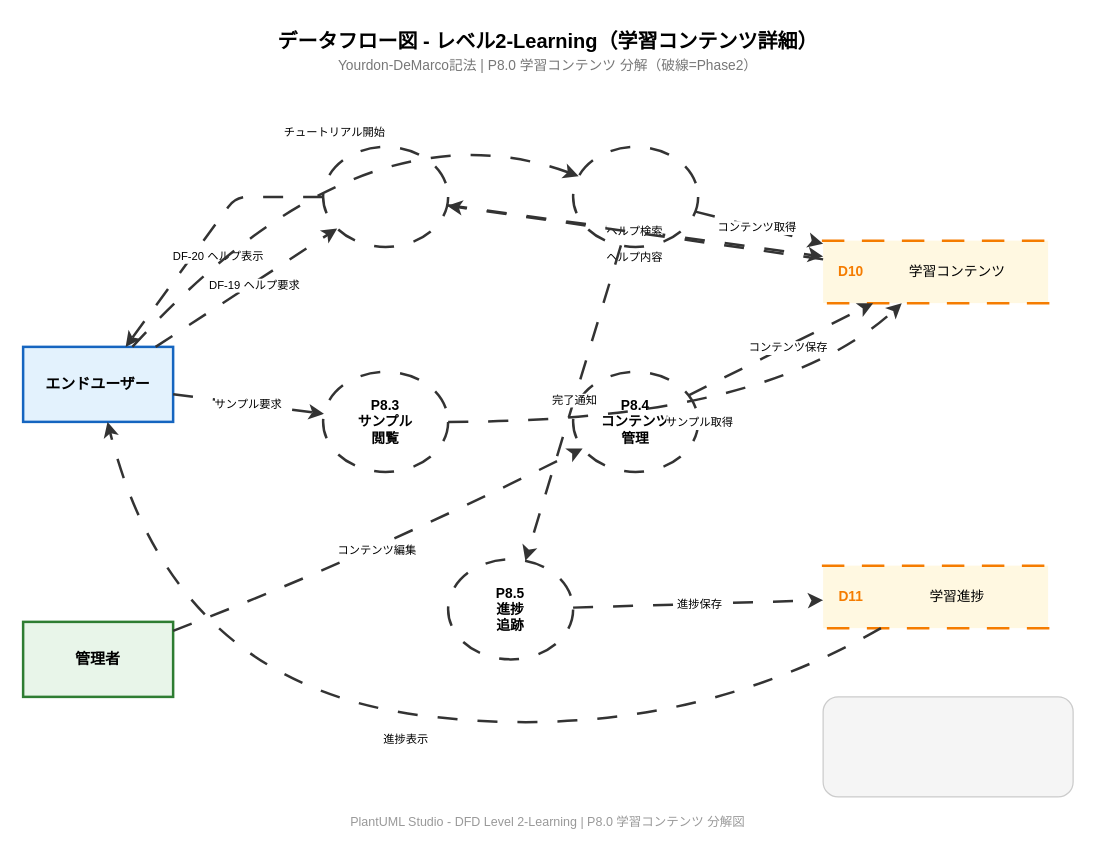
Image size: 1095x855. Some labels were removed from this diagram. Each missing label, with the centre of its shape:
"P8.1 ヘルプ 表示" goes at pixel 385 196.
"P8.2 チュートリアル 提供" goes at pixel 635 196.
"Phase 2 学習機能 UC 3-10 ヘルプ表示 UC 3-11 チュートリアル UC 5-11, 5-12 コンテンツ管理" goes at pixel 947 746.
